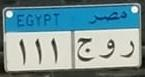1: (15, 38, 29, 66), (32, 38, 46, 65), (48, 37, 61, 64)
jeem: (75, 36, 95, 63)
raa: (121, 38, 136, 61)
waw: (99, 40, 119, 63)
